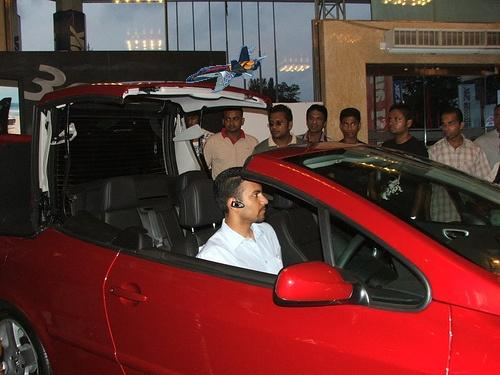tampered: (187, 46, 267, 93)
